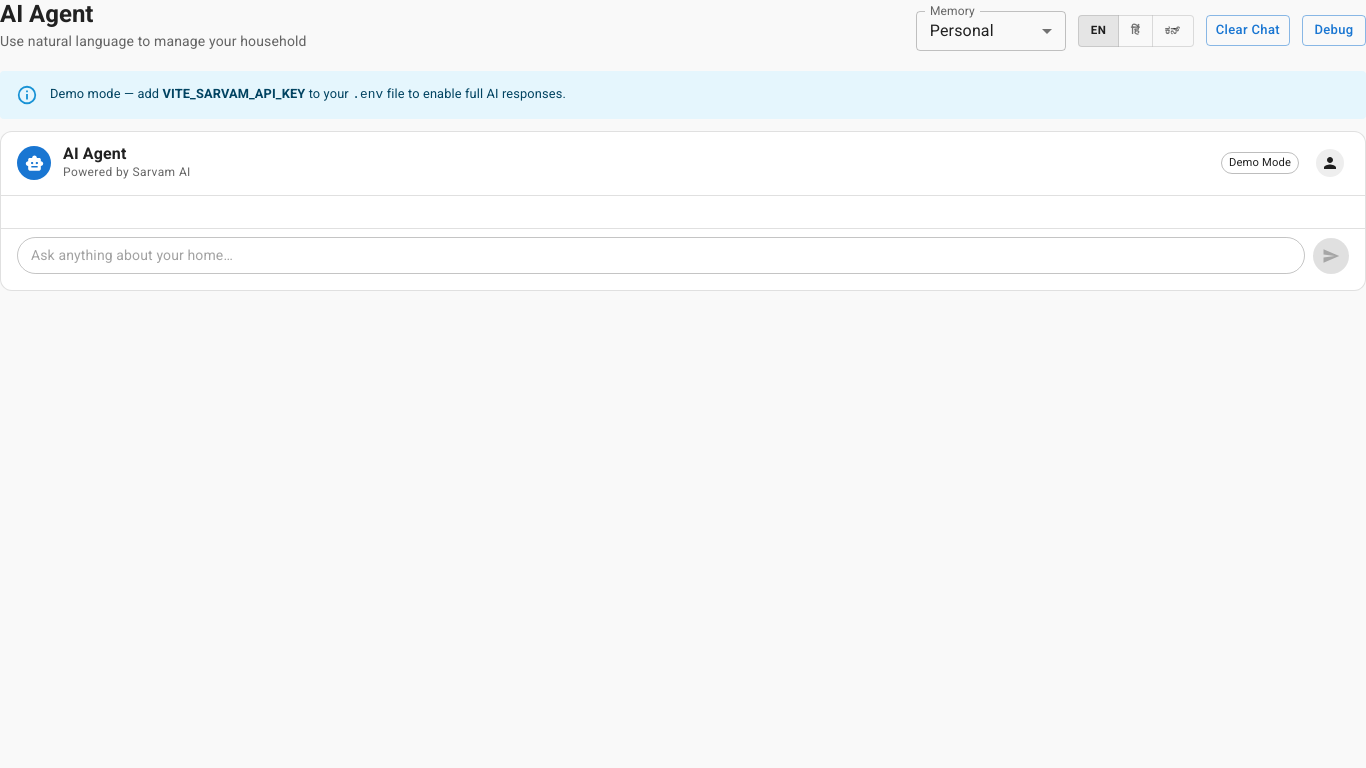
Test: ChatInterface delete chores flow › overdue preview -> click Delete -> shows confirmation
The image size is (1366, 768).
Type "delete chores" into the text box with placeholder "Ask anything about your home…".
click(661, 255); type("delete chores")  # box [31,245,1291,265]
Then press Enter
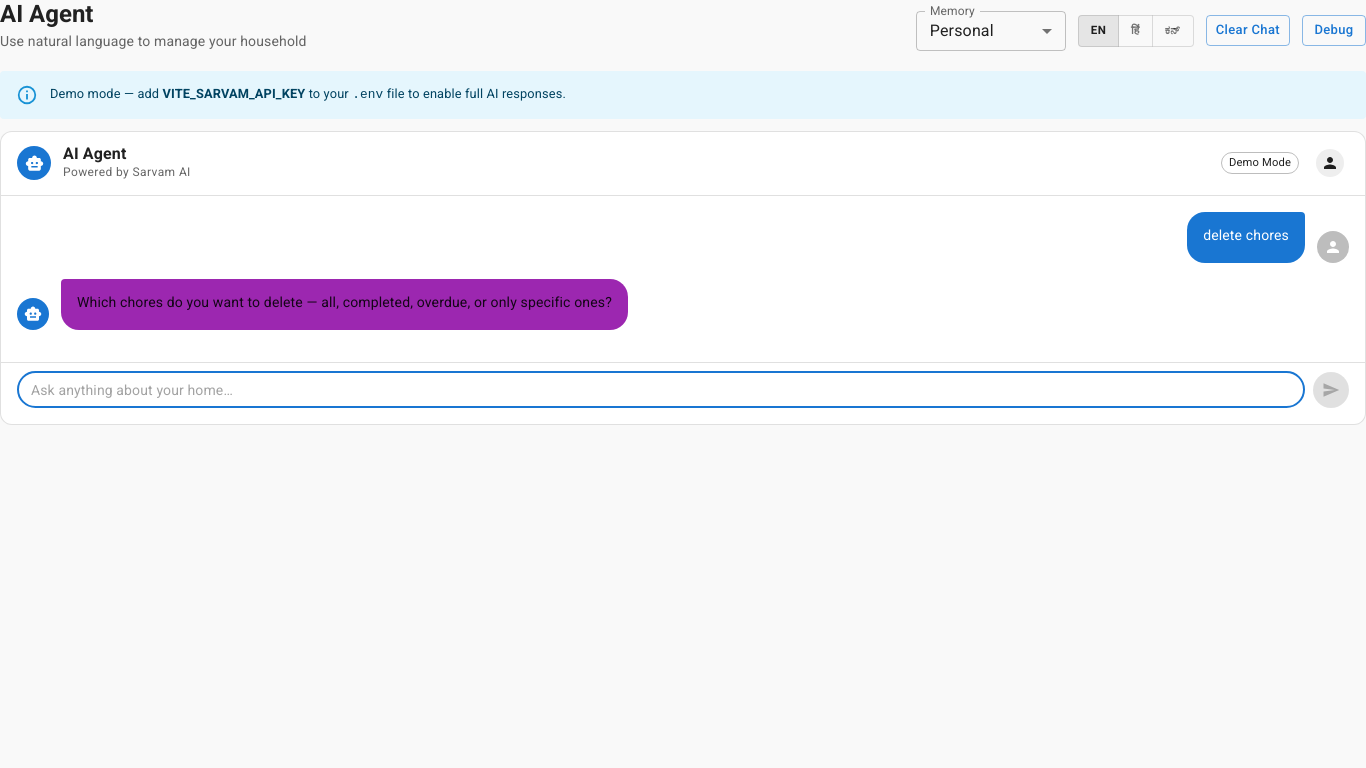
expect the text "Which chores do you want to delete" is shown: met, box [77,294,612,310]
Type "overdue" into the text box with placeholder "Ask anything about your home…".
click(661, 390); type("overdue")  # box [31,380,1291,400]
Then press Enter
(page scrolled)
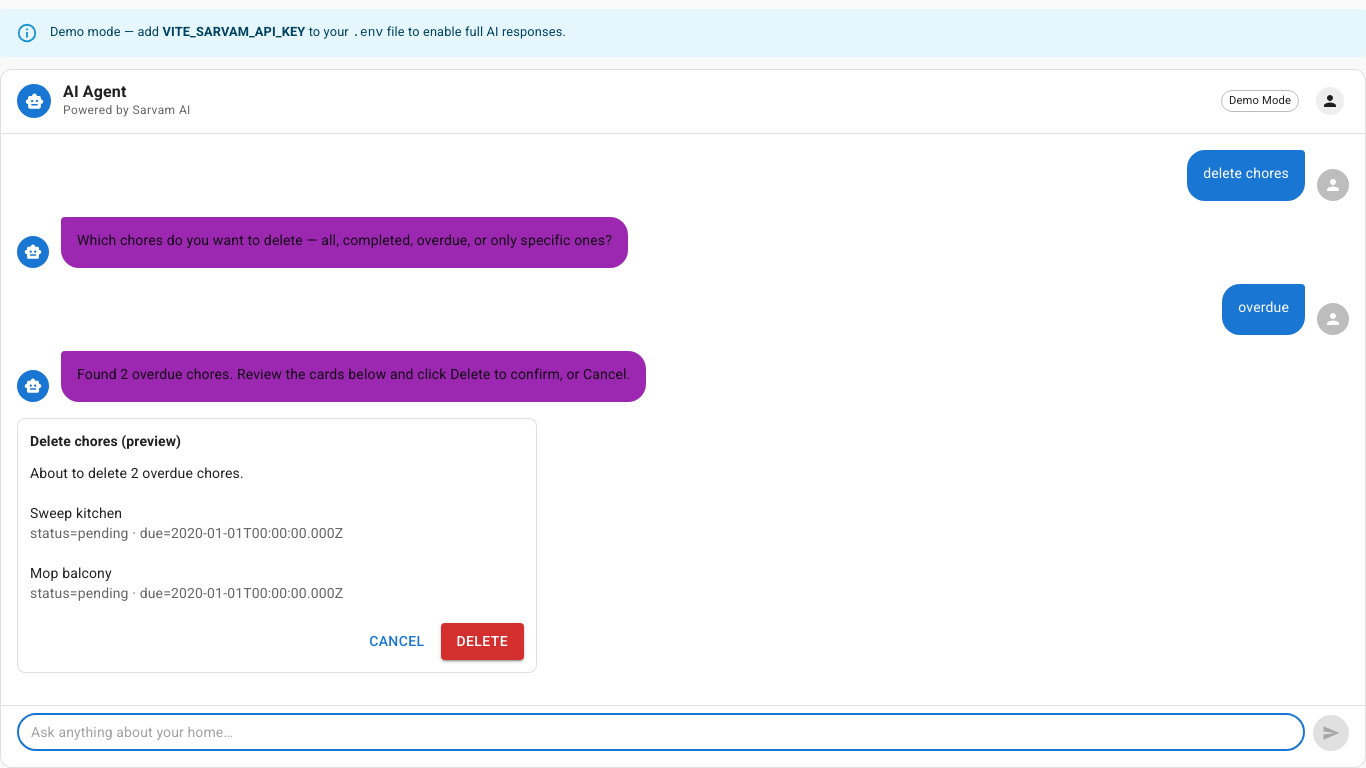
expect the heading "Delete chores (preview)" is shown: met, box [30,433,181,449]
Click the button "Delete".
click(482, 642)  # box [440,623,524,660]
(page scrolled)
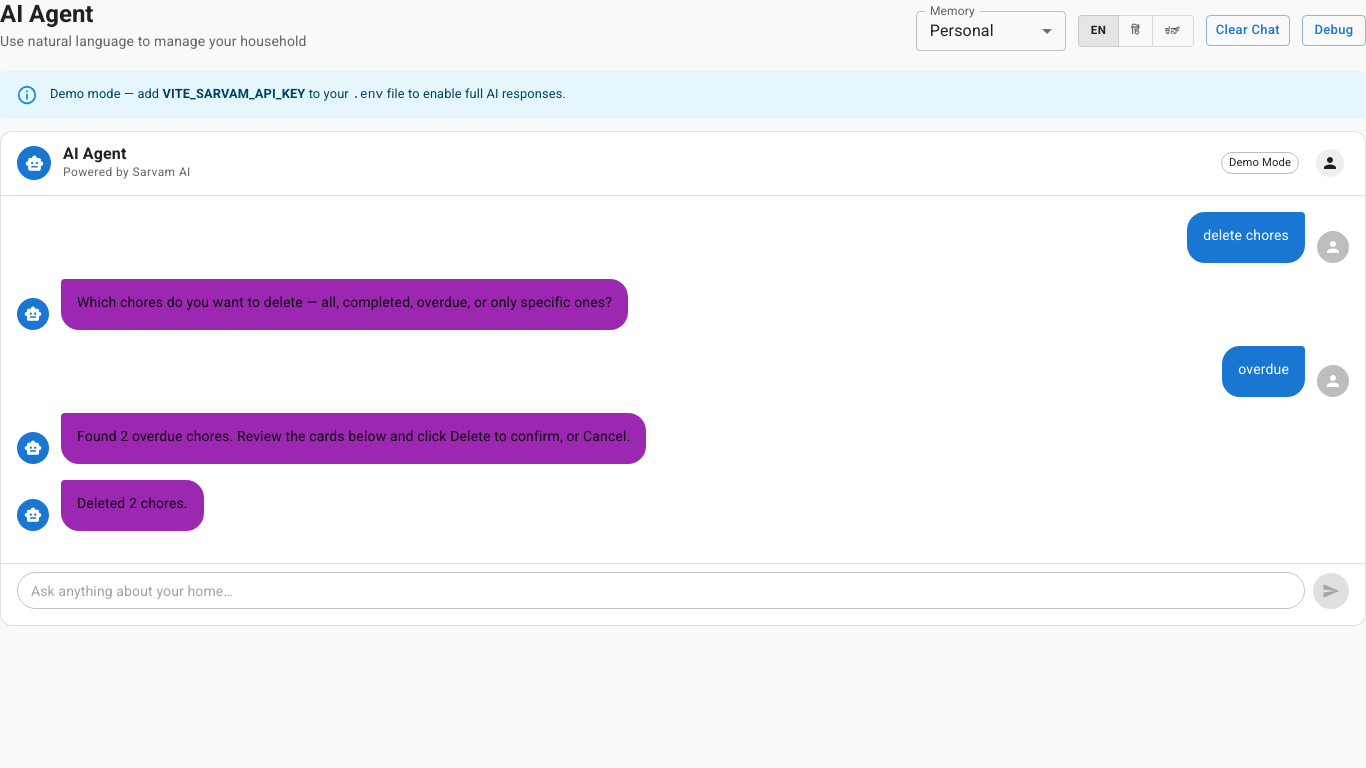
expect the text "Deleted 2 chores." is shown: met, box [77,492,188,515]
